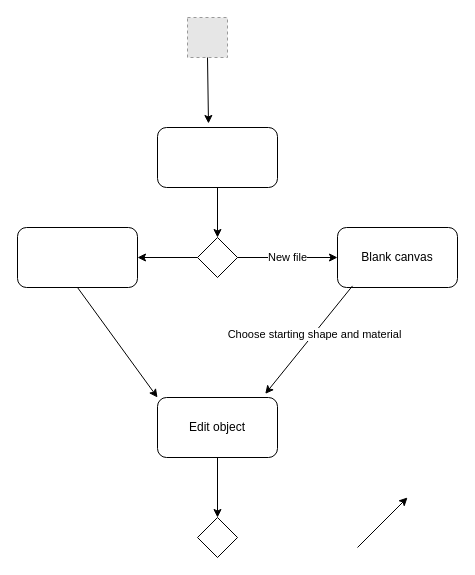
This 475x575 diagram has some shape labels left out. Grey dashed boxes stand in for pictures. Each missing label, with the centre of its shape:
Enter system: point (217, 157)
Open file: point (77, 257)
